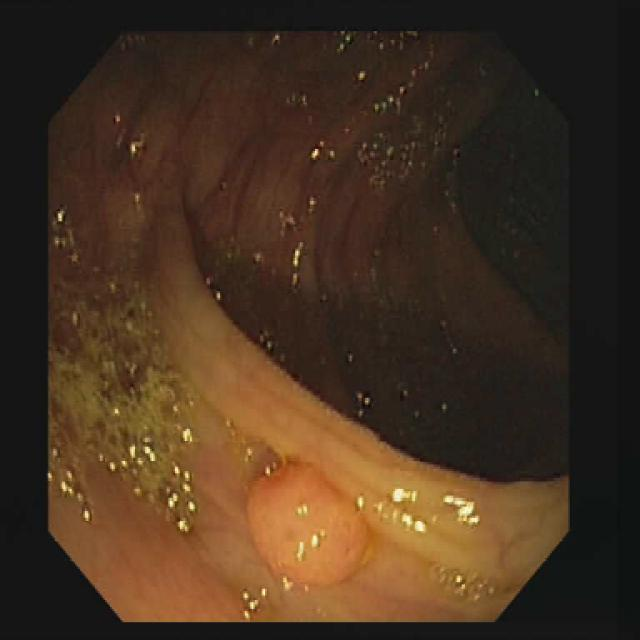tumor: (247, 458, 370, 584)
